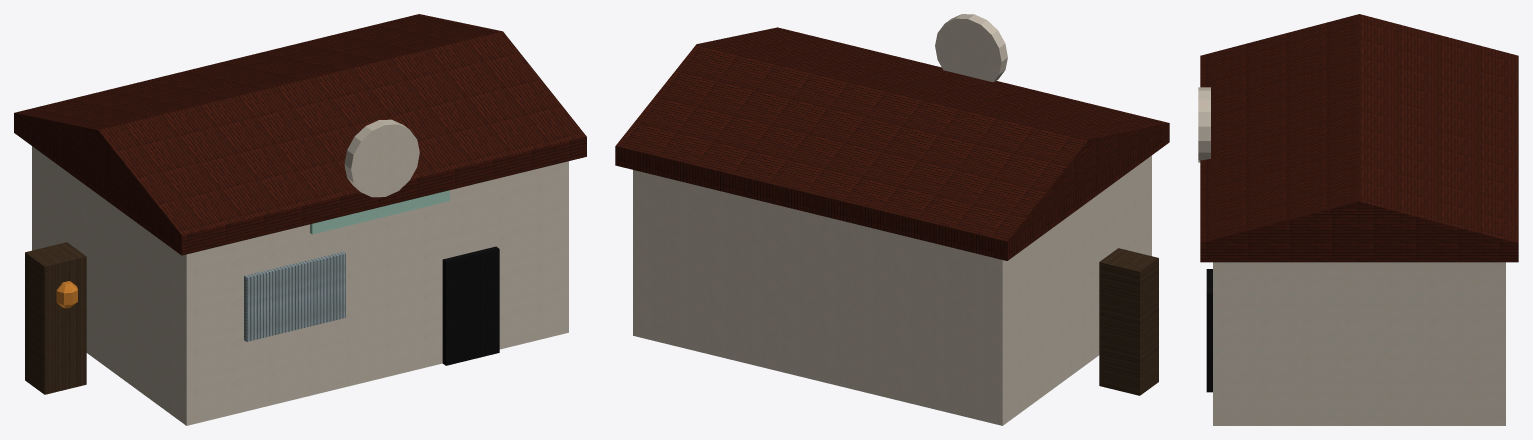
File: amber_clockshop_01.glb
The picture shows the model from 3 angles, left to right: view 1: azimuth 30°, elevation 25°; view 2: azimuth 150°, elevation 25°; view 3: azimuth 270°, elevation 25°; orthographic projection. The views are drawn at different scales.
Parts seen in each view (by area): view 1: amber_clockshop_01; view 2: amber_clockshop_01; view 3: amber_clockshop_01.
Boxes of the visible parts, x1=… form: amber_clockshop_01: x1=14, y1=14, x2=586, y2=425; amber_clockshop_01: x1=615, y1=14, x2=1169, y2=425; amber_clockshop_01: x1=1198, y1=14, x2=1518, y2=425.
Bounding box in the file's own units: 12.25 × 6.5 × 7.65.
7 materials, 7 textured.
